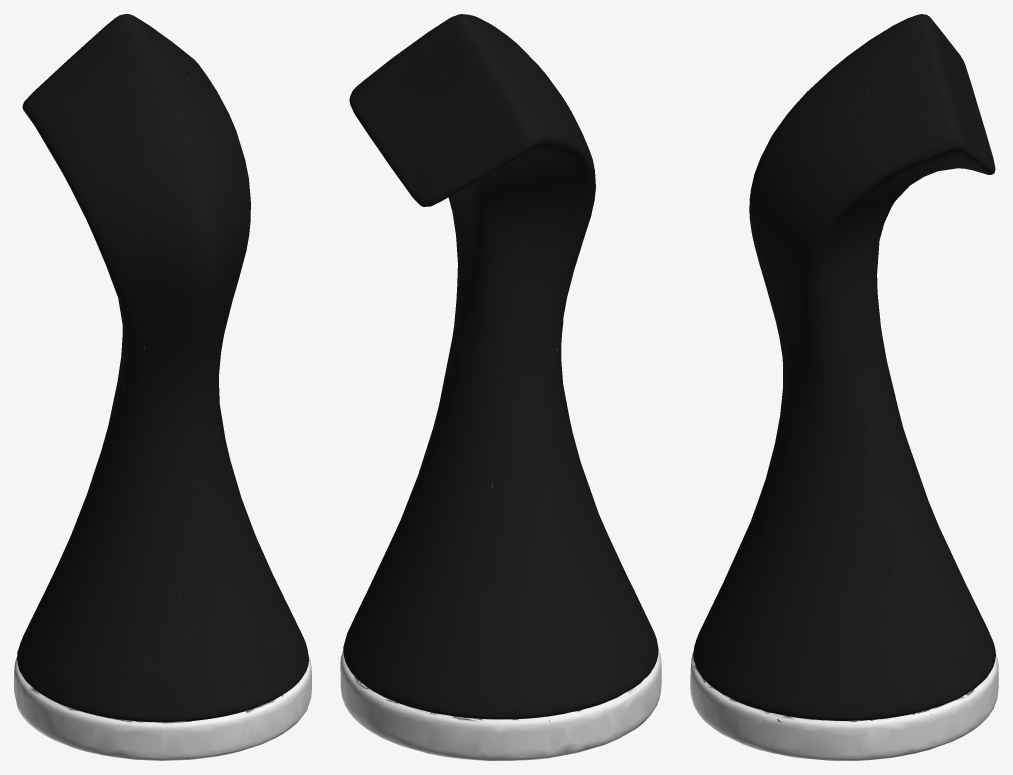
The model's file is knight-black.glb.
The picture shows the model from 3 angles, left to right: view 1: azimuth 30°, elevation 25°; view 2: azimuth 150°, elevation 25°; view 3: azimuth 270°, elevation 25°; orthographic projection. The views are drawn at different scales.
Size of the model in its own units: 0.4925 by 1.2 by 0.4913.
1 material, 1 textured.
